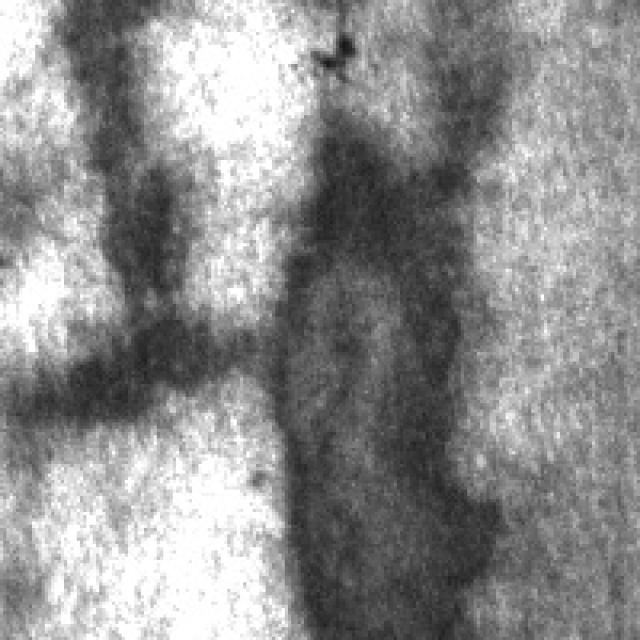patches: (256, 99, 509, 634), (7, 0, 244, 422)
